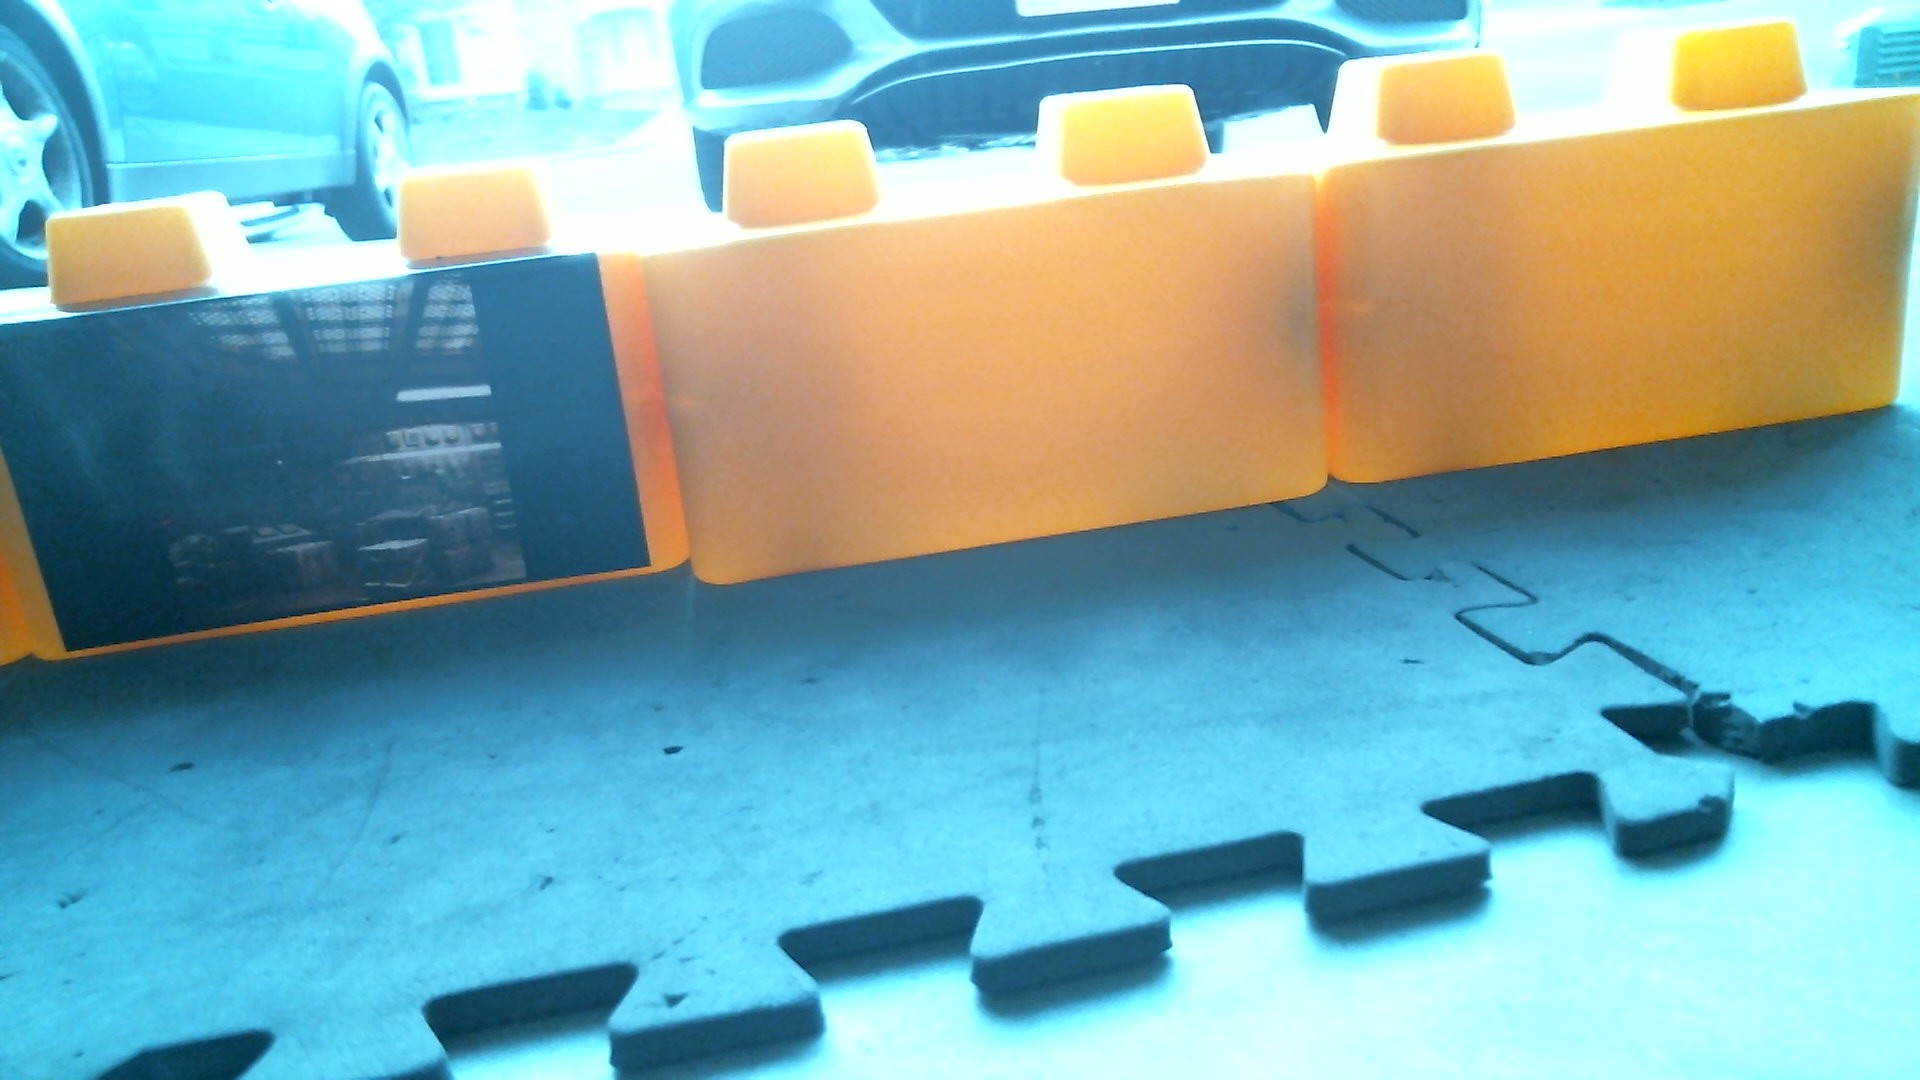left: (12, 1, 1915, 679)
